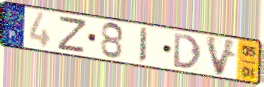4: (28, 10, 55, 51)
8: (99, 21, 126, 60)
D: (173, 31, 203, 71)
I: (137, 26, 149, 66)
V: (204, 34, 239, 78)
Z: (55, 16, 89, 55)
